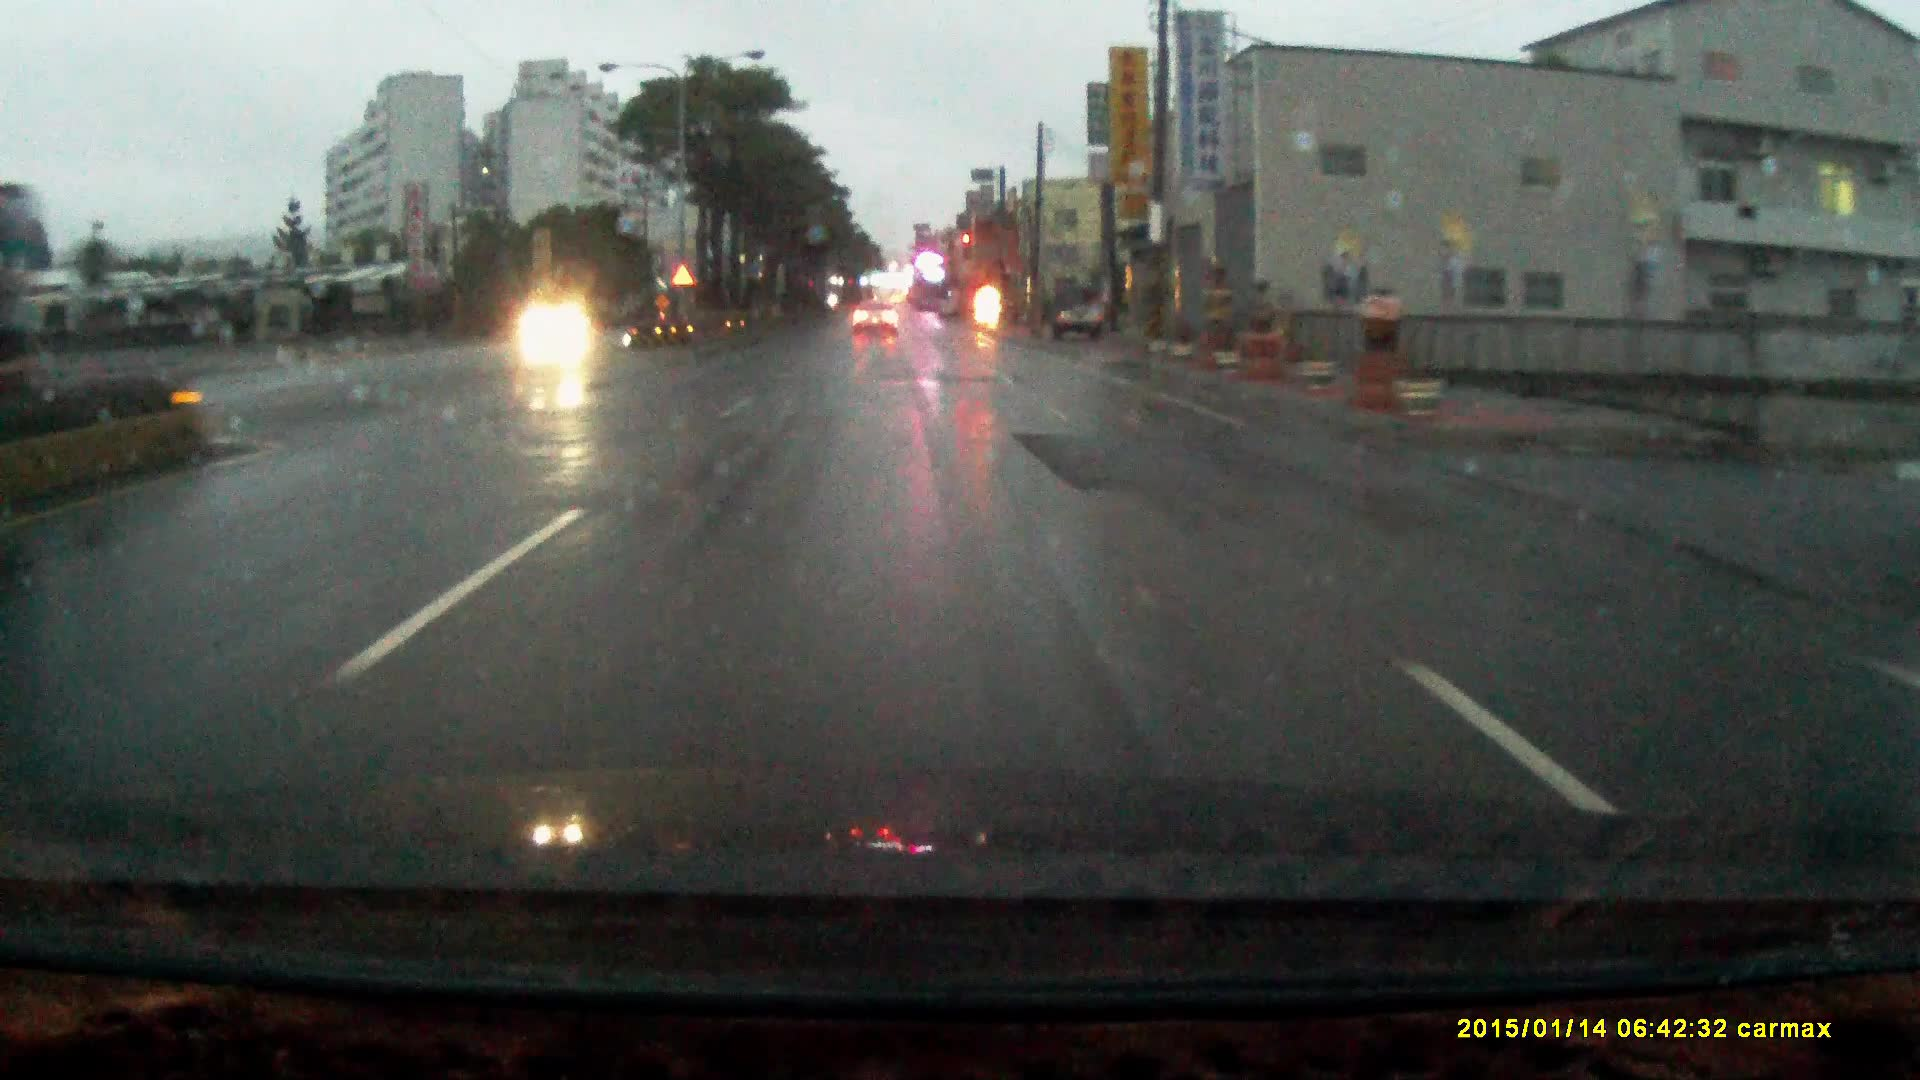vehicle: (1055, 287, 1110, 343), (852, 303, 901, 339)
